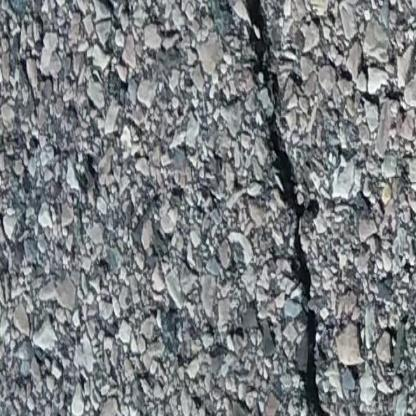Cracks: (242, 0, 347, 416)
